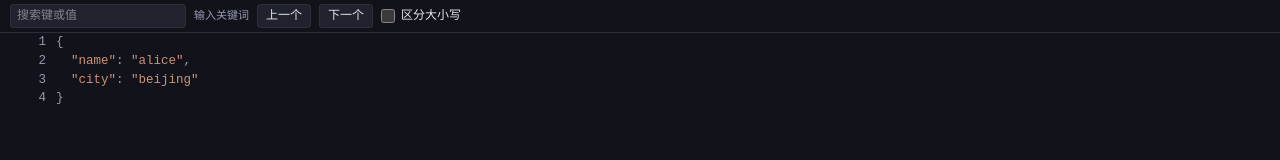
Scenario: JsonCode 搜索 › 命中键与值并标出总数，且不打乱原文
In the field named "搜索键和值": (98,16) top-left (10, 4), bottom-right (186, 28), type "i"
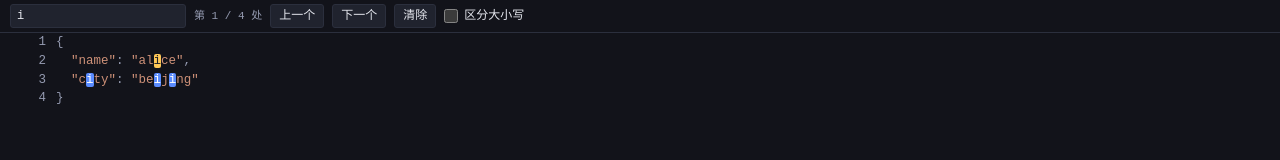
Check: the number of elements with class "json-search-hit" is 4, box top-left (154, 54), bottom-right (161, 68); top-left (86, 72), bottom-right (94, 86); top-left (154, 72), bottom-right (161, 86); top-left (169, 72), bottom-right (176, 86)
Check: the text with test id "json-search-count" reads "第 1 / 4 处", box top-left (194, 10), bottom-right (262, 22)
